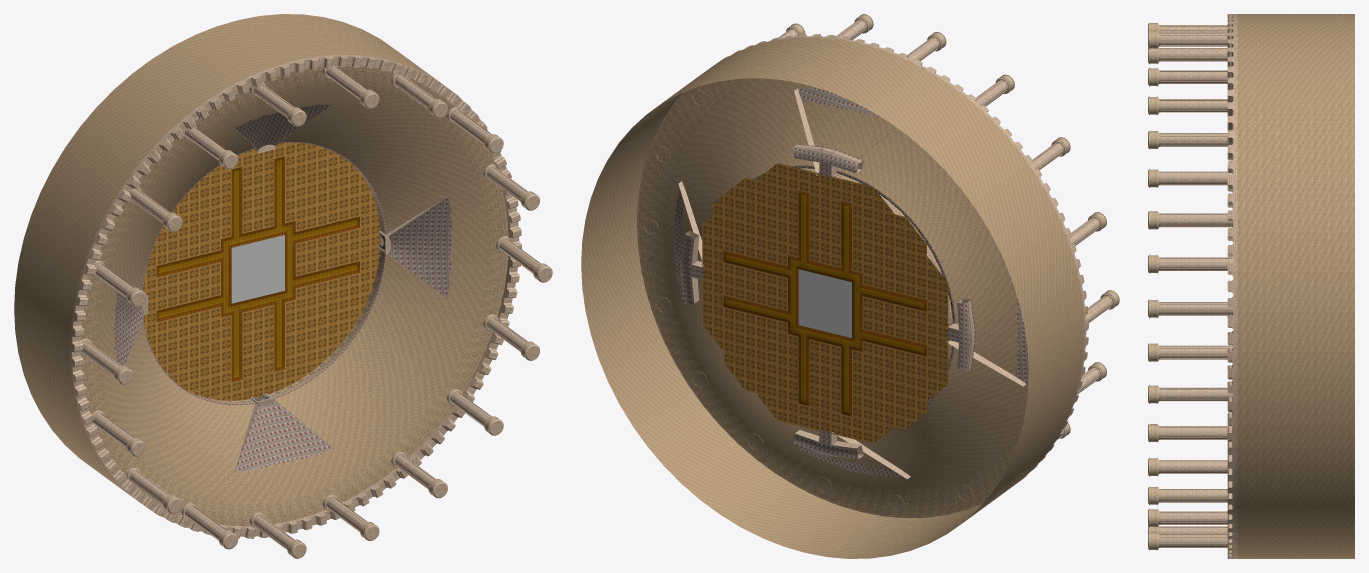
Rendered from PrototypeMap.obj.
3 views of the same model, side by side, from view 1: azimuth 30°, elevation 25°; view 2: azimuth 150°, elevation 25°; view 3: azimuth 270°, elevation 25° (orthographic). The views are drawn at different scales.
Parts seen in each view (by area): view 1: Object008; view 2: Object008; view 3: Object008.
Part boxes in pixels (<box>): Object008: <box>14,14,552,558</box>; Object008: <box>581,14,1119,558</box>; Object008: <box>1148,14,1354,558</box>.
Size of the model in its own units: 366 by 366 by 139.
